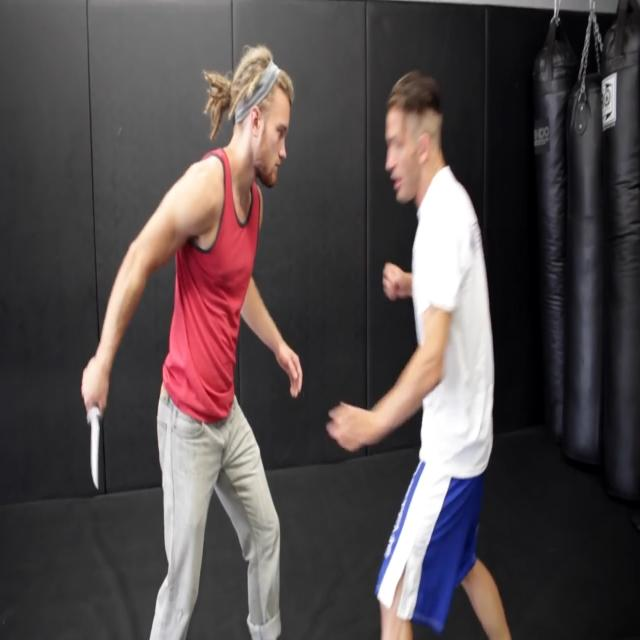knife: (84, 405, 104, 501)
